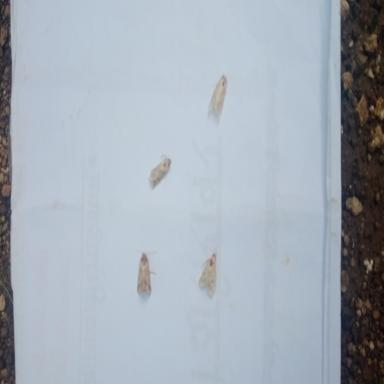abw: (135, 246, 157, 297), (148, 153, 172, 190), (198, 250, 216, 299), (209, 74, 227, 118)
